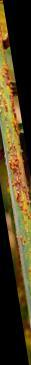Wheat: (3, 83, 30, 223)
